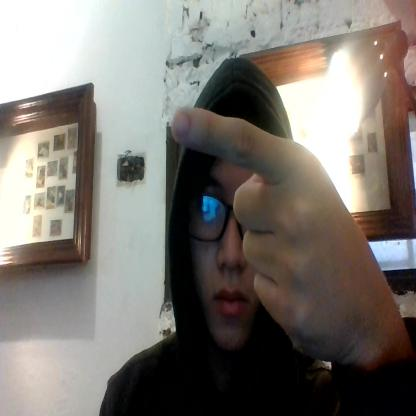right: (170, 101, 362, 362)
